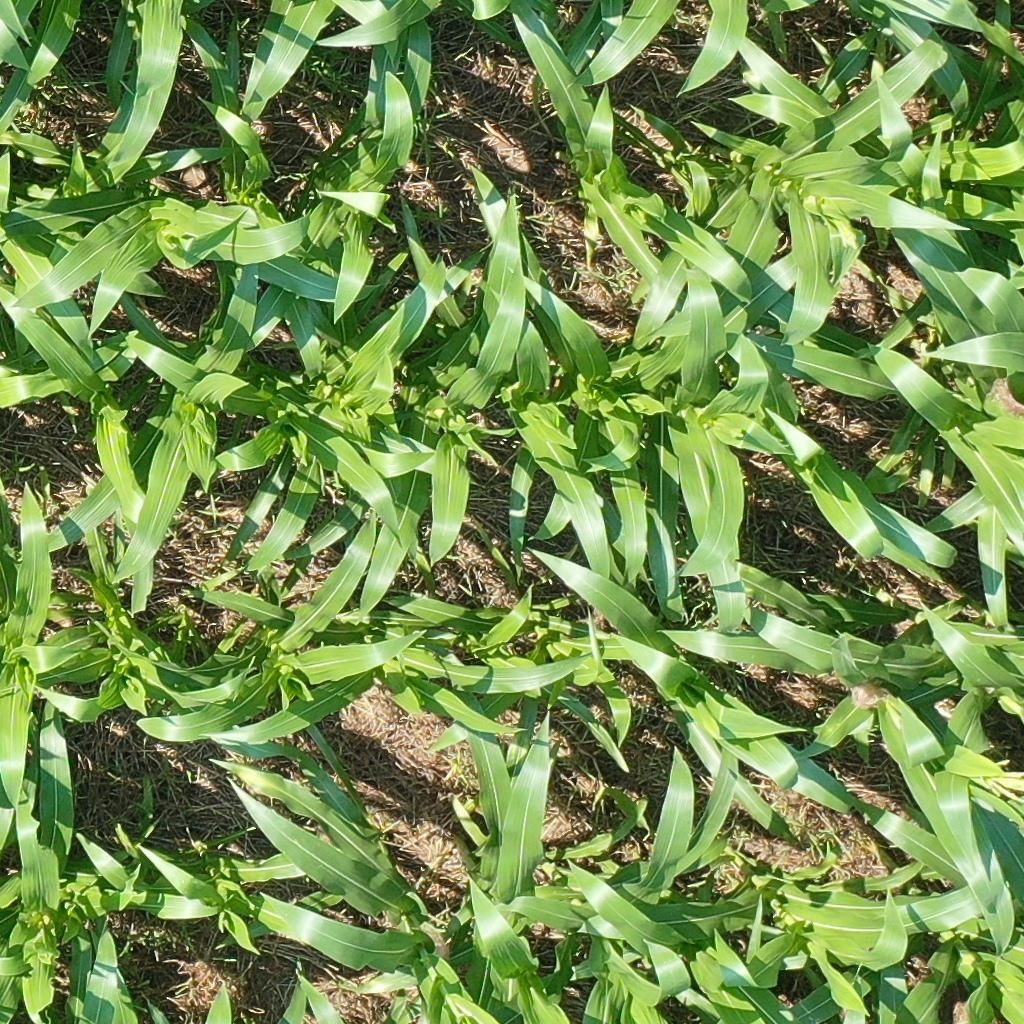Tassel: (973, 757, 1024, 803), (829, 222, 861, 249)
